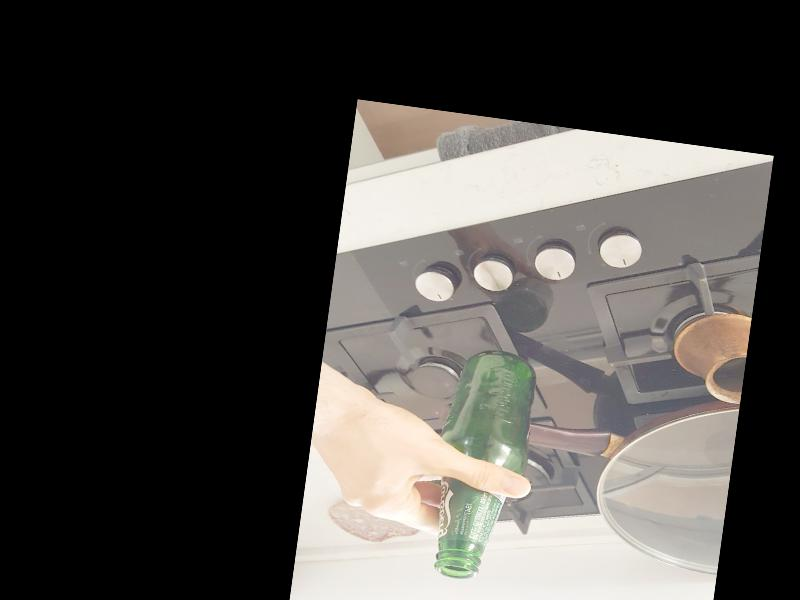Beer: (432, 346, 539, 583)
